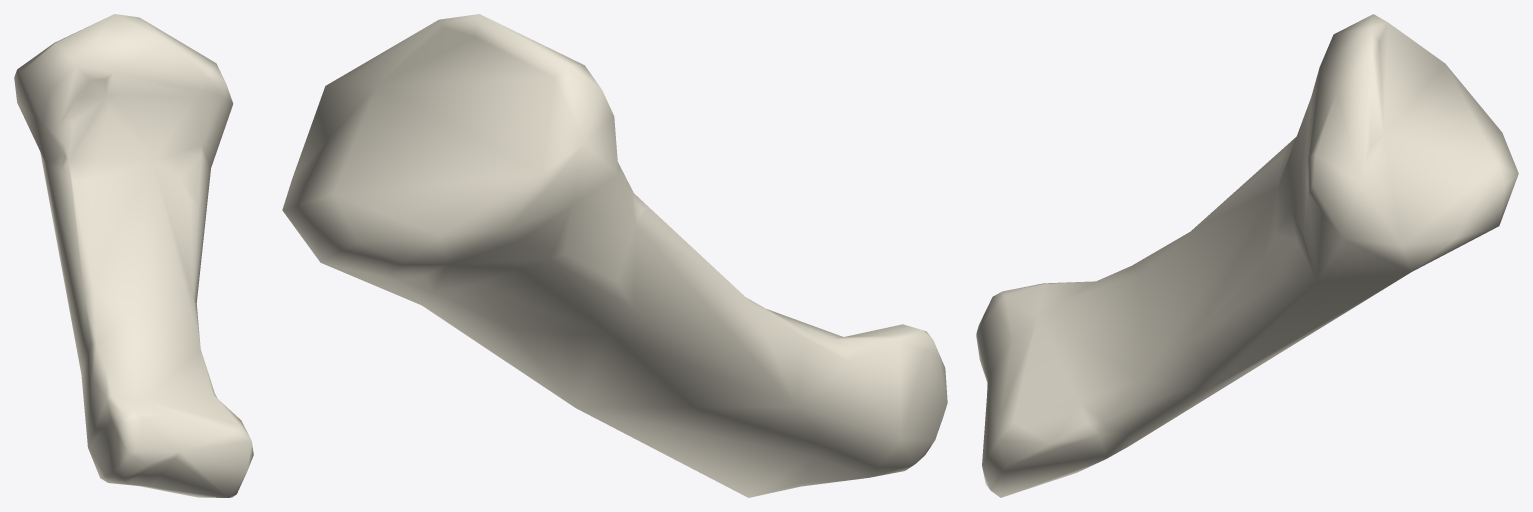
3 renders of one model, left to right at view 1: azimuth 30°, elevation 25°; view 2: azimuth 150°, elevation 25°; view 3: azimuth 270°, elevation 25°, orthographic. The views are drawn at different scales.
Visible parts, largest first — view 1: ZA_c60a22411ad8c0a9; view 2: ZA_c60a22411ad8c0a9; view 3: ZA_c60a22411ad8c0a9.
Part boxes in pixels (bbox=[...]): ZA_c60a22411ad8c0a9: bbox=[14, 14, 253, 497]; ZA_c60a22411ad8c0a9: bbox=[282, 14, 947, 497]; ZA_c60a22411ad8c0a9: bbox=[976, 14, 1518, 497].
Size of the model in its own units: 0.0151 by 0.0213 by 0.0216.
